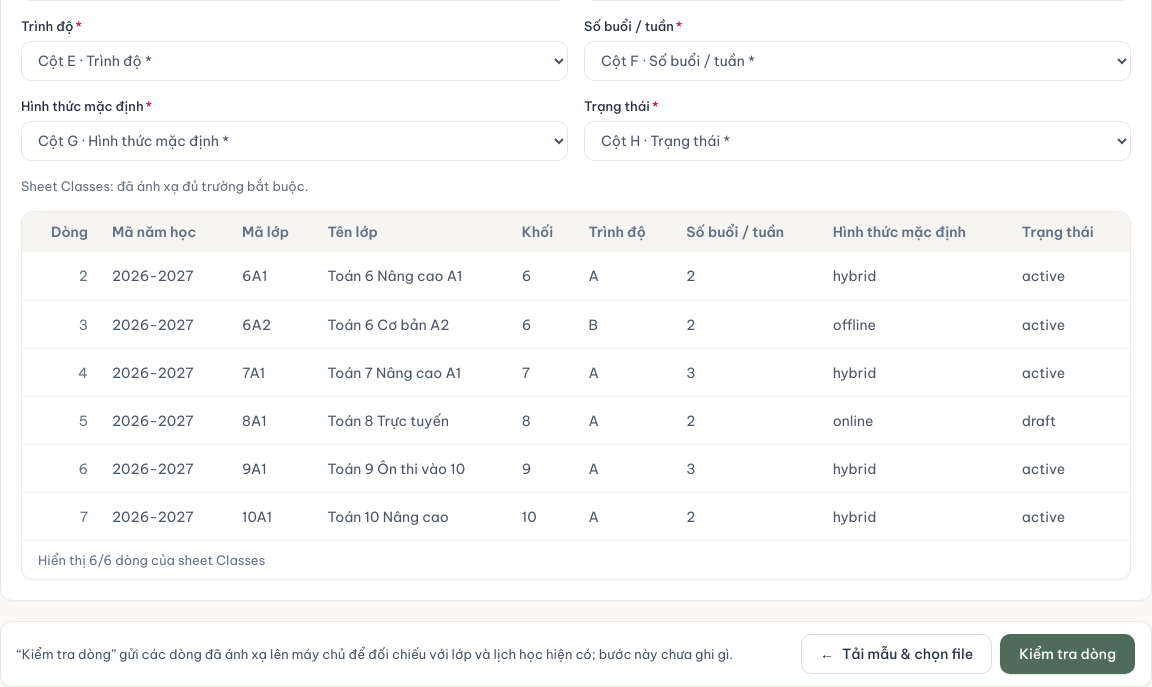
ClassScheduleImportPage: review › makes an unreadable weekday an invalid row of the check instead of Monday
(page scrolled)
Click the button "Kiểm tra dòng": coordinates (1068, 654) [1000,634,1135,674]
(page scrolled)
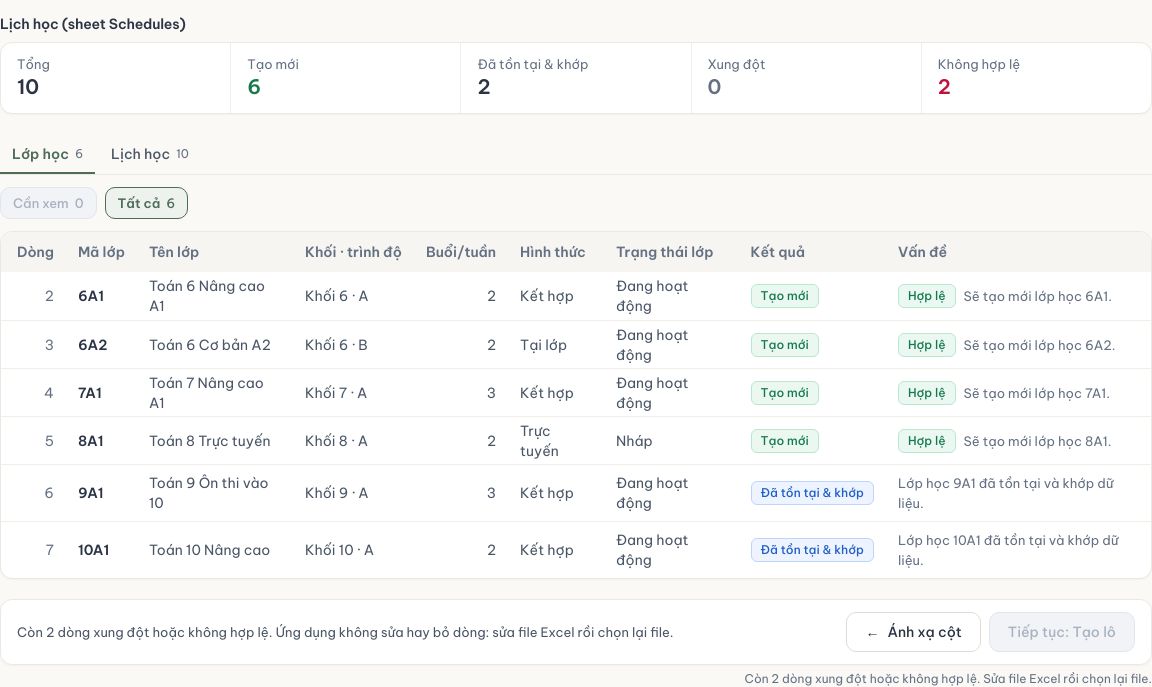
Expected: the button "Tiếp tục: Tạo lô" is disabled, [989,612,1135,652]
Click the tab "Lịch học 10": coordinates (150, 154) [99,134,201,174]
(page scrolled)
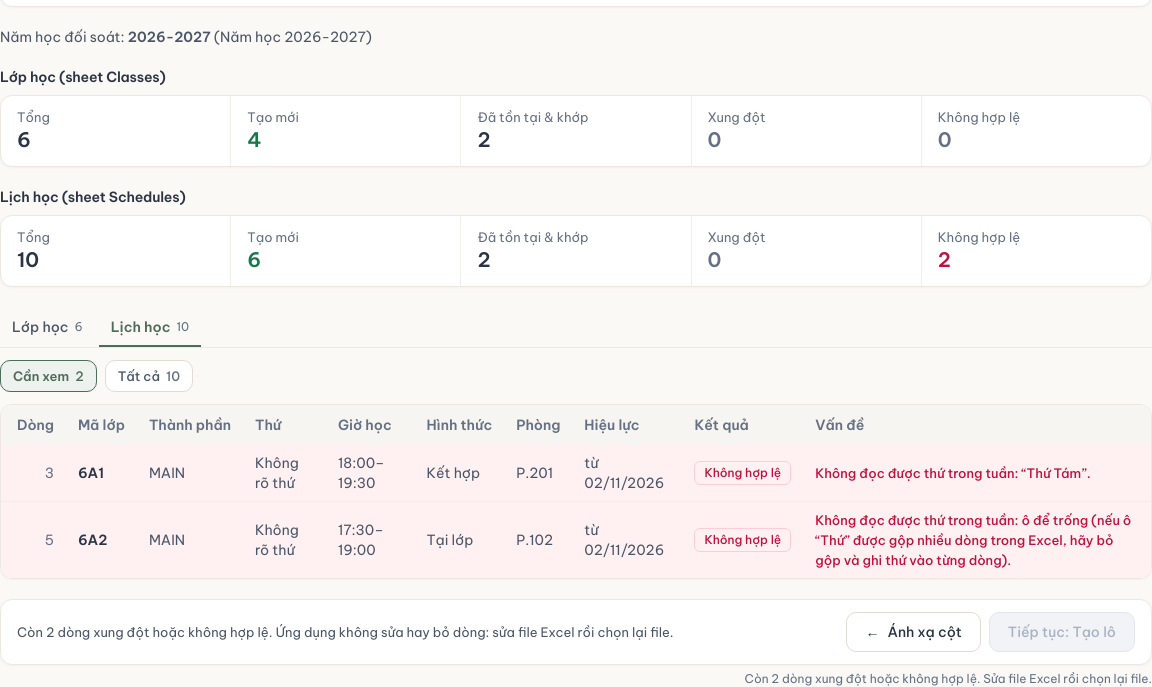
Expected: the button named "Cần xem2" is shown, [0,360,97,392]
Expected: the row that starts with "6A1" shows "Không rõ thứ", [255,454,299,492]
Expected: the row that starts with "6A1" shows "Không hợp lệ", [704,465,781,480]
Note: "Tất cả" is file order: the held-back rows sit between the server's rows, not after them.
Click the button named "Tất cả10": coordinates (149, 376) [105,360,193,392]
(page scrolled)
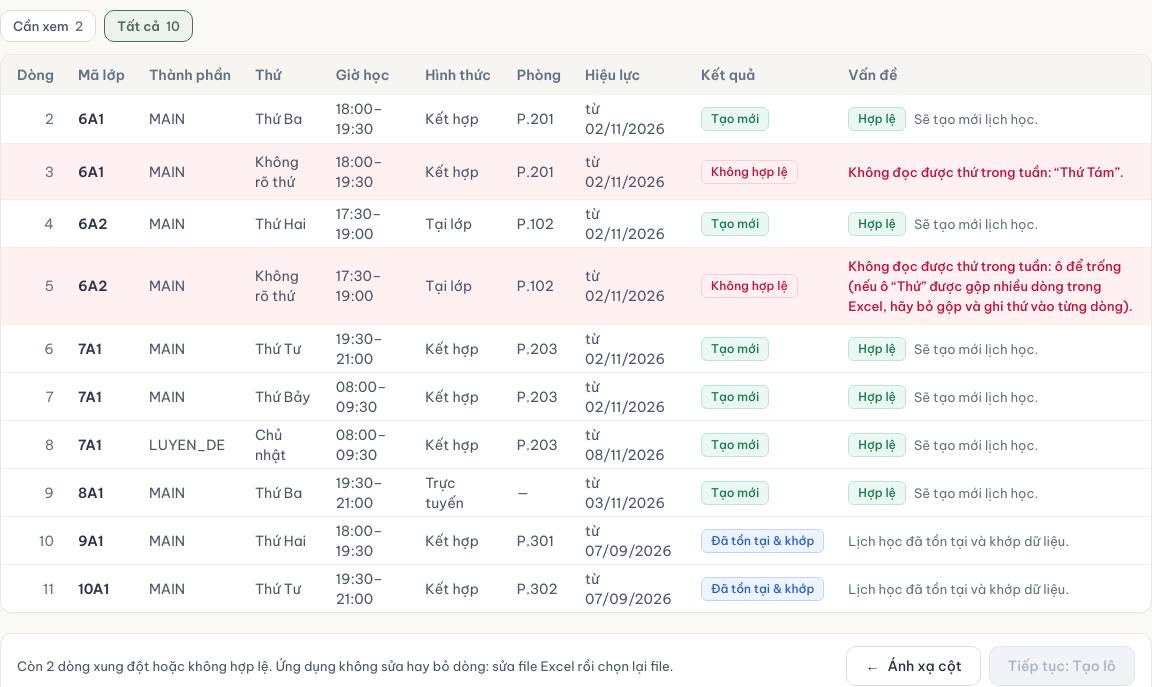
Note: Nothing was changed since the check: the way back to "Ánh xạ cột" does not call it stale.
Click the button named "Quay lại bước Ánh xạ cột": coordinates (914, 666) [846,646,981,686]
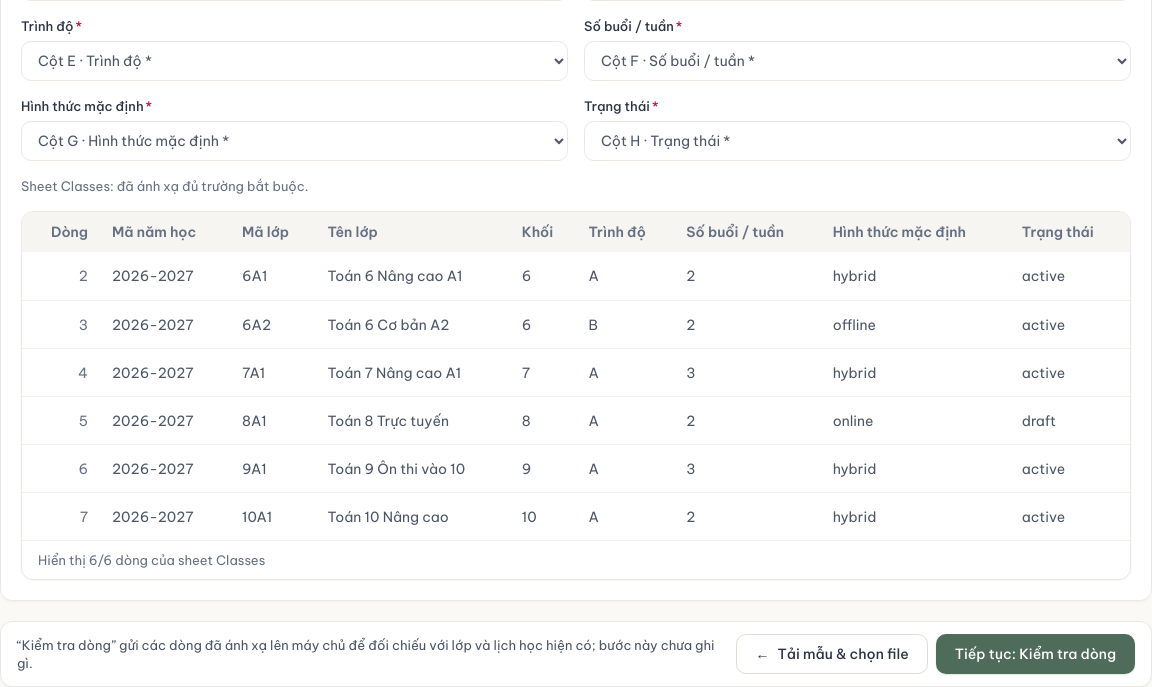
Expected: the button "Tiếp tục: Kiểm tra dòng" is enabled, [936,634,1135,674]
